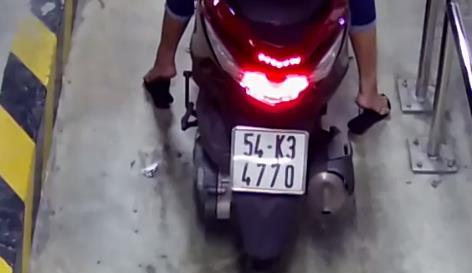lisence: (231, 125, 306, 196)
